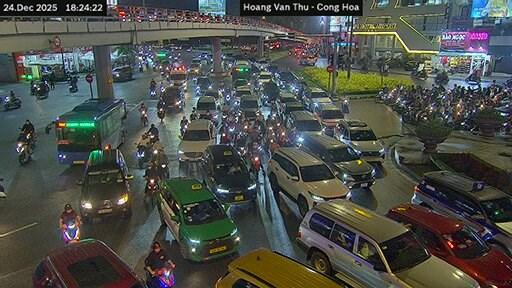motorbike: (150, 149, 169, 178), (146, 265, 172, 286), (61, 219, 79, 243), (249, 144, 262, 175), (16, 139, 31, 163), (135, 144, 149, 167), (144, 178, 157, 202), (3, 95, 21, 108), (250, 153, 259, 175), (157, 162, 169, 178), (464, 73, 480, 84), (435, 72, 448, 85), (35, 86, 48, 97), (410, 70, 425, 79), (220, 131, 230, 144), (140, 109, 147, 126), (147, 133, 157, 144), (29, 82, 37, 94), (156, 108, 163, 121), (342, 99, 348, 112), (69, 81, 76, 91), (179, 125, 186, 135), (150, 89, 156, 99)
